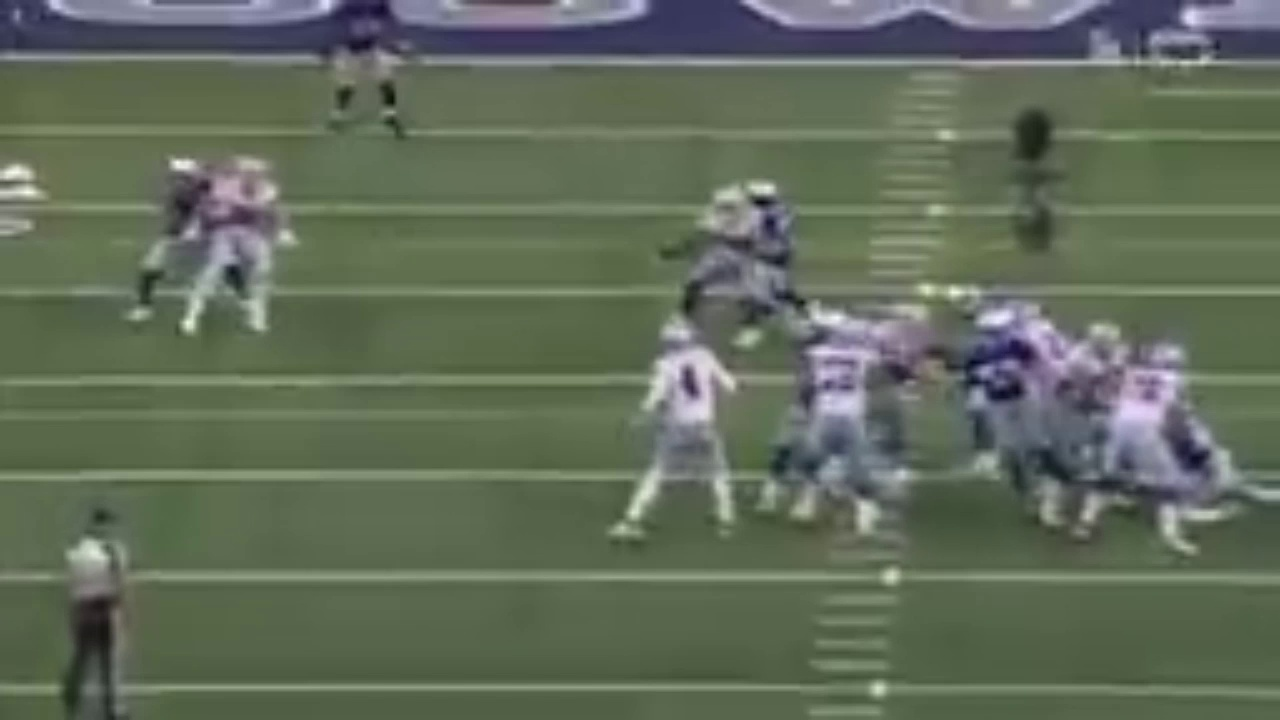football: (654, 236, 684, 250)
interference: (710, 189, 792, 281)
